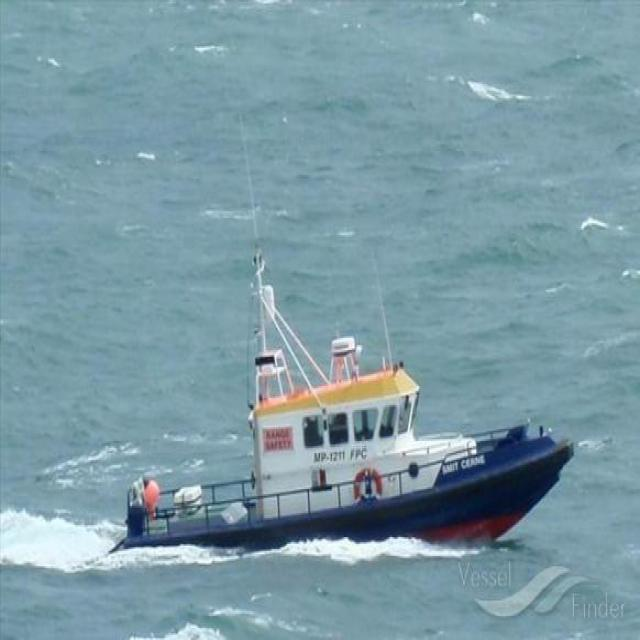OCR: (308, 445, 372, 473)
